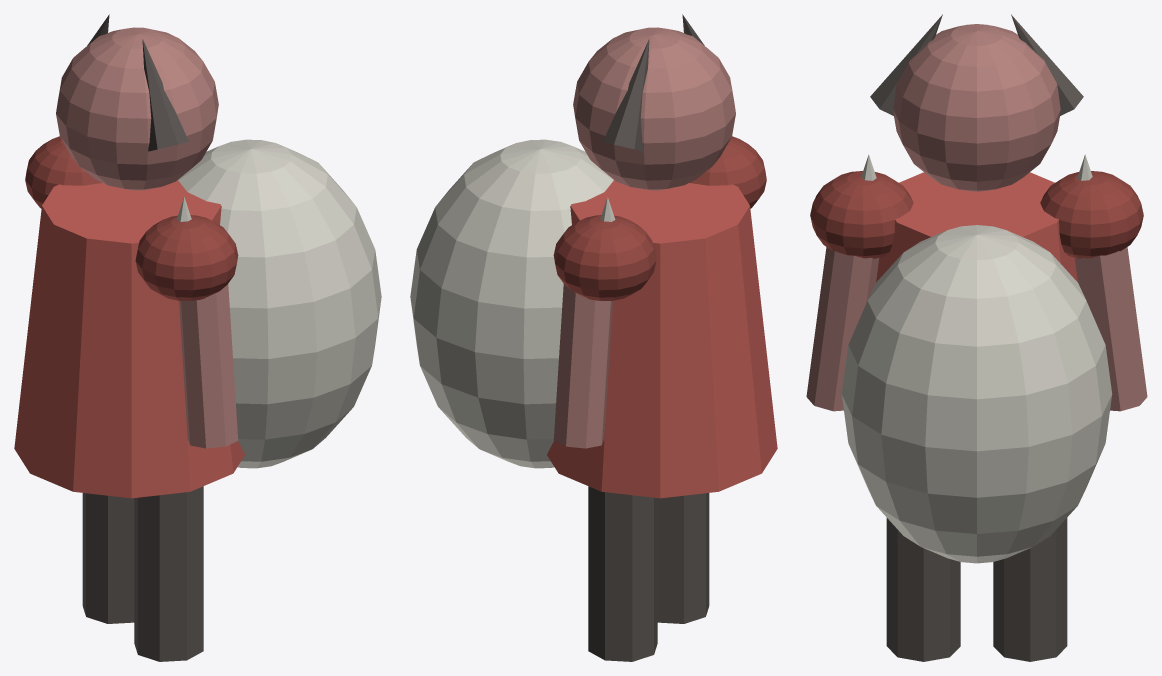
The model's file is hero_horda_2.glb.
3 renders of one model, left to right at view 1: azimuth 30°, elevation 25°; view 2: azimuth 150°, elevation 25°; view 3: azimuth 270°, elevation 25°, orthographic. The views are drawn at different scales.
Parts seen in each view (by area): view 1: figurka; view 2: figurka; view 3: figurka.
Boxes of the visible parts, x1=… form: figurka: x1=14, y1=14, x2=381, y2=661; figurka: x1=410, y1=14, x2=777, y2=661; figurka: x1=806, y1=14, x2=1147, y2=661.
Bounding box in the file's own units: 0.5885 × 1.02 × 0.5044.
